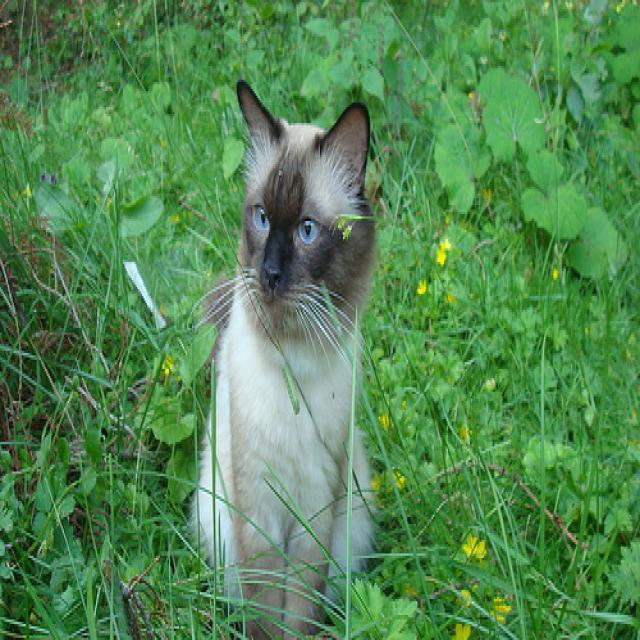Siamese: (237, 73, 377, 352)
